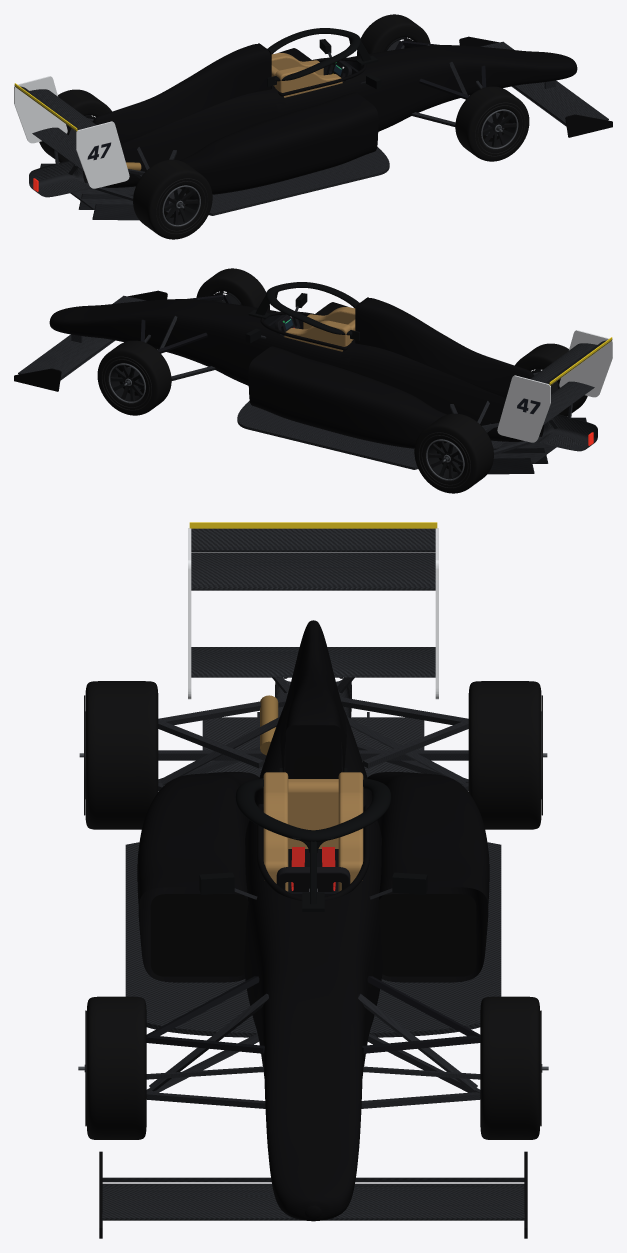
The picture shows the model from 3 angles, top to bottom: view 1: azimuth 30°, elevation 25°; view 2: azimuth 150°, elevation 25°; view 3: azimuth 270°, elevation 25°; orthographic projection. The views are drawn at different scales.
Bounding box in the file's own units: 4.78 × 1.01 × 1.81.
62 materials, 2 textured.
